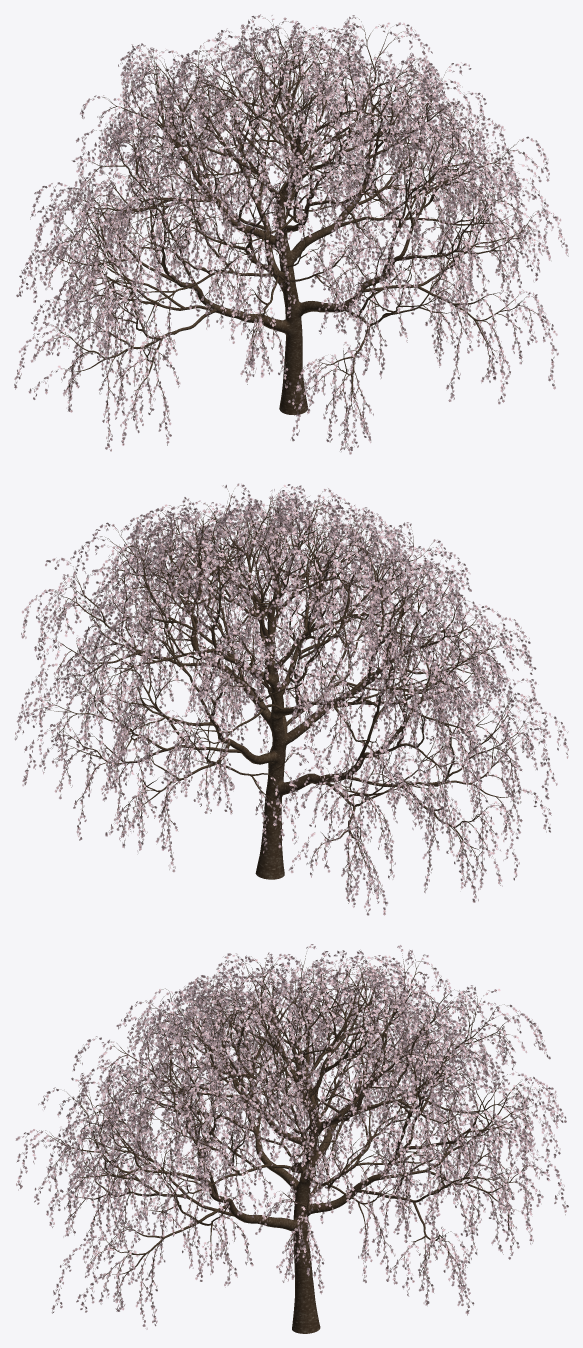
Rendered from Prunus_Pendula.glb.
The picture shows the model from 3 angles, top to bottom: view 1: azimuth 30°, elevation 25°; view 2: azimuth 150°, elevation 25°; view 3: azimuth 270°, elevation 25°; orthographic projection.
Visible parts, largest first — view 1: Prunus_pendula__A001; view 2: Prunus_pendula__A001; view 3: Prunus_pendula__A001.
Boxes of the visible parts, left/top/right/bottom form: Prunus_pendula__A001: left=14, top=14, right=568, bottom=454; Prunus_pendula__A001: left=15, top=483, right=568, bottom=915; Prunus_pendula__A001: left=15, top=944, right=568, bottom=1333.
Bounding box in the file's own units: 92.96 × 66.05 × 91.76.
Materials: 2 (2 with a texture image).
